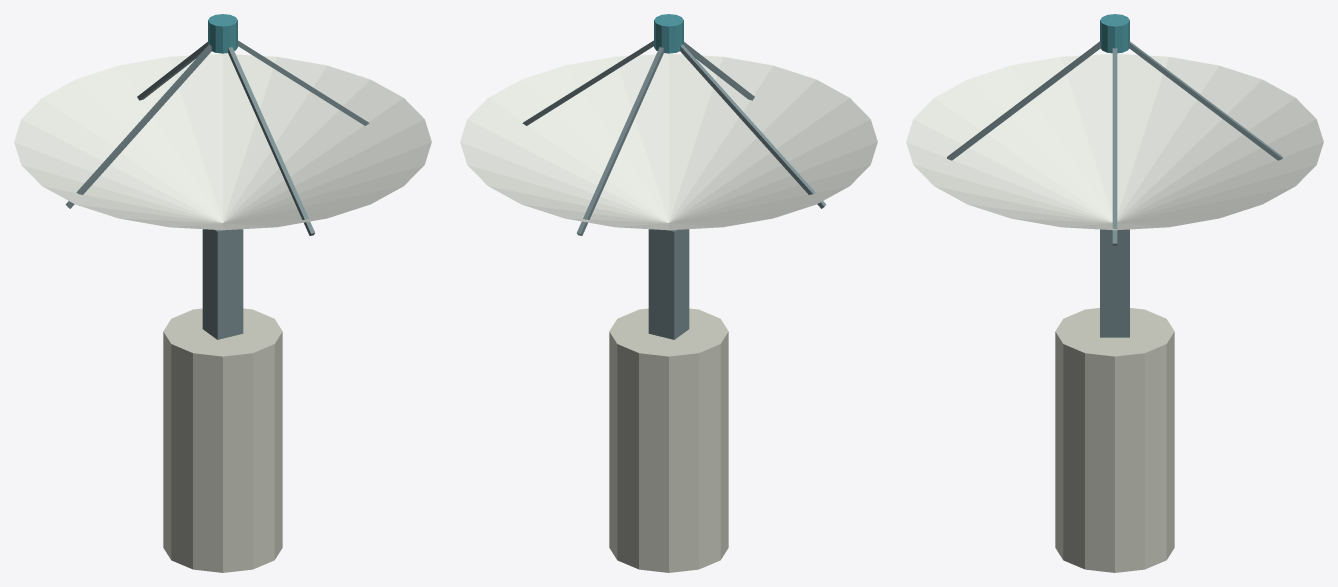
File: radar.glb
3 renders of one model, left to right at view 1: azimuth 30°, elevation 25°; view 2: azimuth 150°, elevation 25°; view 3: azimuth 270°, elevation 25°, orthographic.
Parts seen in each view (by area): view 1: Dish, Cone, Cube, Cone.001; view 2: Dish, Cone, Cube, Cone.001; view 3: Dish, Cone, Cube, Cone.001.
Boxes of the visible parts, <box> form: Dish: <box>14,53,431,230</box>; Cone: <box>163,308,282,572</box>; Cube: <box>65,40,369,339</box>; Cone.001: <box>208,14,237,53</box>; Dish: <box>460,53,877,230</box>; Cone: <box>609,308,728,572</box>; Cube: <box>522,40,826,339</box>; Cone.001: <box>654,14,683,53</box>; Dish: <box>906,54,1323,230</box>; Cone: <box>1055,308,1174,572</box>; Cube: <box>947,41,1282,337</box>; Cone.001: <box>1100,14,1129,53</box>.
Size of the model in its own units: 14 by 19.5 by 14.
